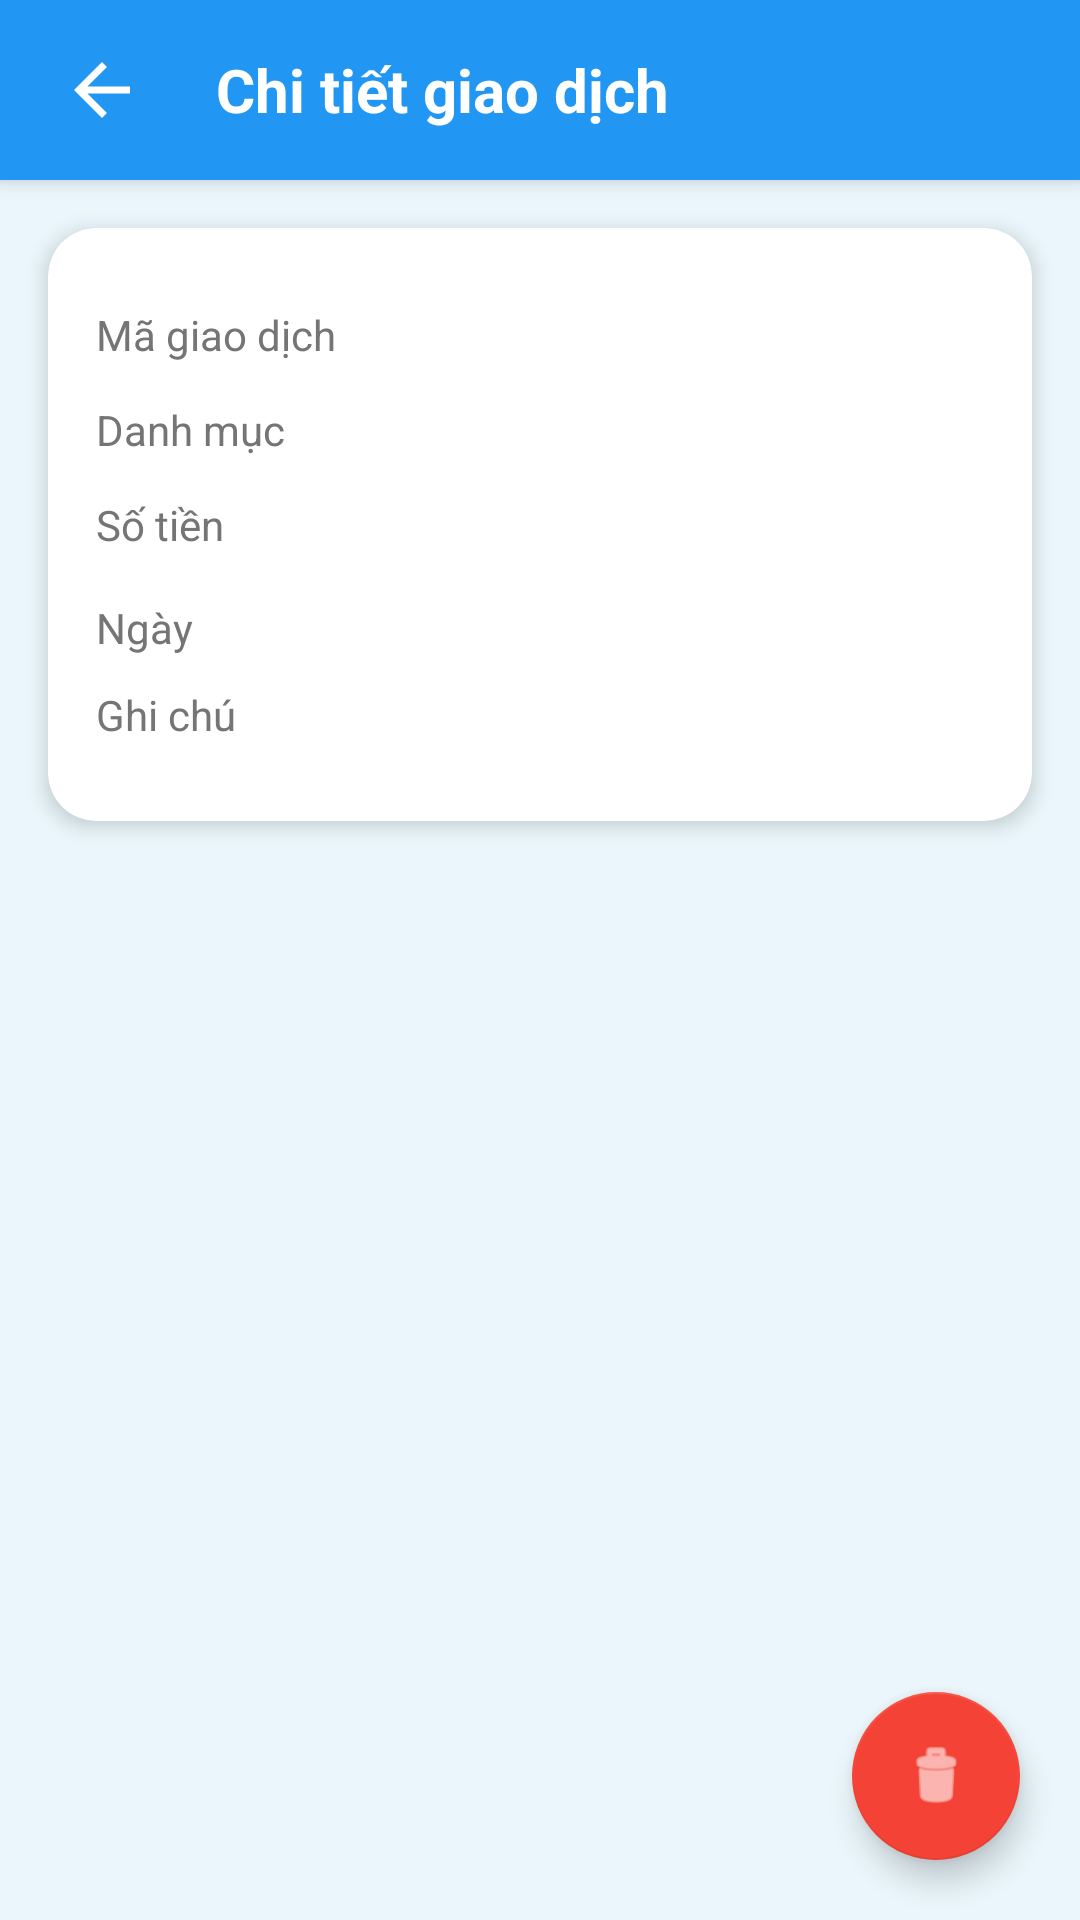

Named icons in this screenshot (1080px x 1920px) and their bounding boxes, (x1, y1, x2, y2):
back: (74, 62, 130, 118)
Xóa: (852, 1692, 1020, 1860)
